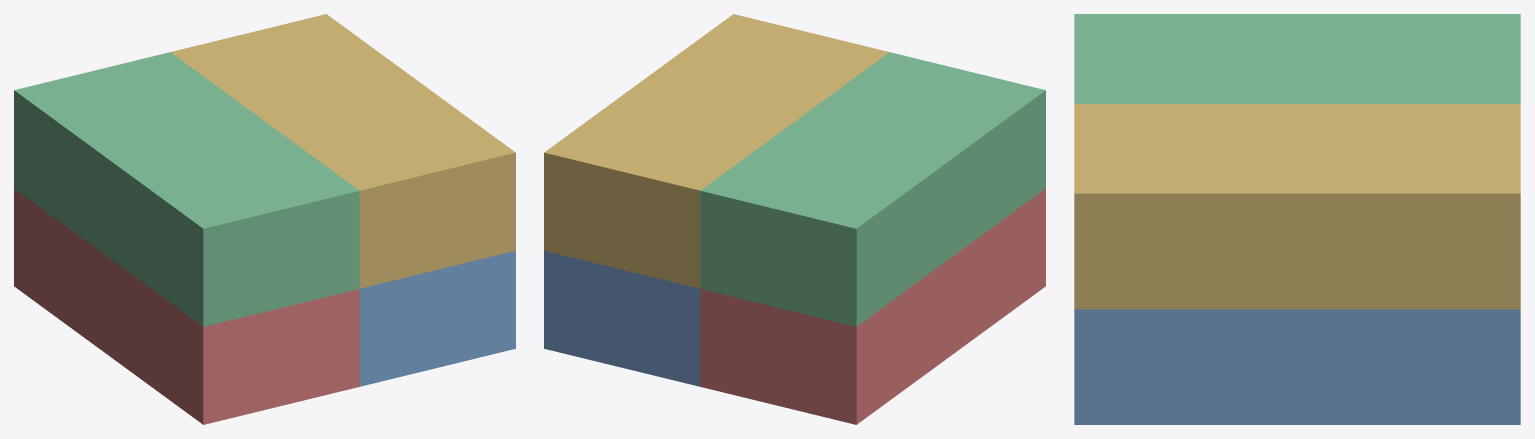
The model's file is apartments.glb.
3 renders of one model, left to right at view 1: azimuth 30°, elevation 25°; view 2: azimuth 150°, elevation 25°; view 3: azimuth 270°, elevation 25°, orthographic. The views are drawn at different scales.
Parts seen in each view (by area): view 1: B001-F07-U03, B001-F07-U04, B001-F07-U01, B001-F07-U02, B001-F05-U03, B001-F06-U03, B001-F01-U03, B001-F03-U03, B001-F02-U03, B001-F04-U03, B001-F04-U04, B001-F06-U04 (+10 smaller); view 2: B001-F01-U03, B001-F01-U04, B001-F01-U01, B001-F01-U02, B001-F02-U03, B001-F03-U03, B001-F05-U03, B001-F07-U03, B001-F04-U03, B001-F06-U03, B001-F02-U04, B001-F04-U04 (+10 smaller); view 3: B001-F03-U04, B001-F05-U04, B001-F04-U04, B001-F01-U04, B001-F02-U04, B001-F06-U04, B001-F07-U04, B001-F03-U02, B001-F04-U02, B001-F05-U02, B001-F01-U02, B001-F02-U02 (+9 smaller).
Part boxes in pixels (left/top/right/bottom): B001-F07-U03: left=176, top=171, right=359, bottom=326; B001-F07-U04: left=333, top=133, right=515, bottom=288; B001-F07-U01: left=176, top=289, right=359, bottom=424; B001-F07-U02: left=359, top=250, right=515, bottom=386; B001-F05-U03: left=122, top=131, right=304, bottom=286; B001-F06-U03: left=149, top=151, right=332, bottom=306; B001-F01-U03: left=14, top=52, right=196, bottom=207; B001-F03-U03: left=68, top=91, right=250, bottom=247; B001-F02-U03: left=41, top=72, right=223, bottom=227; B001-F04-U03: left=95, top=111, right=277, bottom=266; B001-F04-U04: left=252, top=73, right=434, bottom=131; B001-F06-U04: left=306, top=113, right=488, bottom=170; B001-F01-U03: left=700, top=171, right=883, bottom=326; B001-F01-U04: left=544, top=133, right=726, bottom=288; B001-F01-U01: left=700, top=289, right=883, bottom=424; B001-F01-U02: left=544, top=250, right=700, bottom=386; B001-F02-U03: left=727, top=151, right=910, bottom=306; B001-F03-U03: left=755, top=131, right=937, bottom=286; B001-F05-U03: left=809, top=91, right=991, bottom=247; B001-F07-U03: left=863, top=52, right=1045, bottom=207; B001-F04-U03: left=782, top=111, right=964, bottom=266; B001-F06-U03: left=836, top=72, right=1018, bottom=227; B001-F02-U04: left=571, top=113, right=753, bottom=170; B001-F04-U04: left=625, top=73, right=807, bottom=131; B001-F03-U04: left=1329, top=104, right=1393, bottom=309; B001-F05-U04: left=1201, top=104, right=1265, bottom=309; B001-F04-U04: left=1265, top=104, right=1329, bottom=309; B001-F01-U04: left=1457, top=104, right=1520, bottom=309; B001-F02-U04: left=1393, top=104, right=1456, bottom=309; B001-F06-U04: left=1138, top=104, right=1201, bottom=309; B001-F07-U04: left=1074, top=104, right=1137, bottom=309; B001-F03-U02: left=1329, top=309, right=1393, bottom=424; B001-F04-U02: left=1265, top=309, right=1329, bottom=424; B001-F05-U02: left=1201, top=309, right=1265, bottom=424; B001-F01-U02: left=1457, top=309, right=1520, bottom=424; B001-F02-U02: left=1393, top=309, right=1456, bottom=424.
Bounding box in the file's own units: 20 × 12 × 21.
